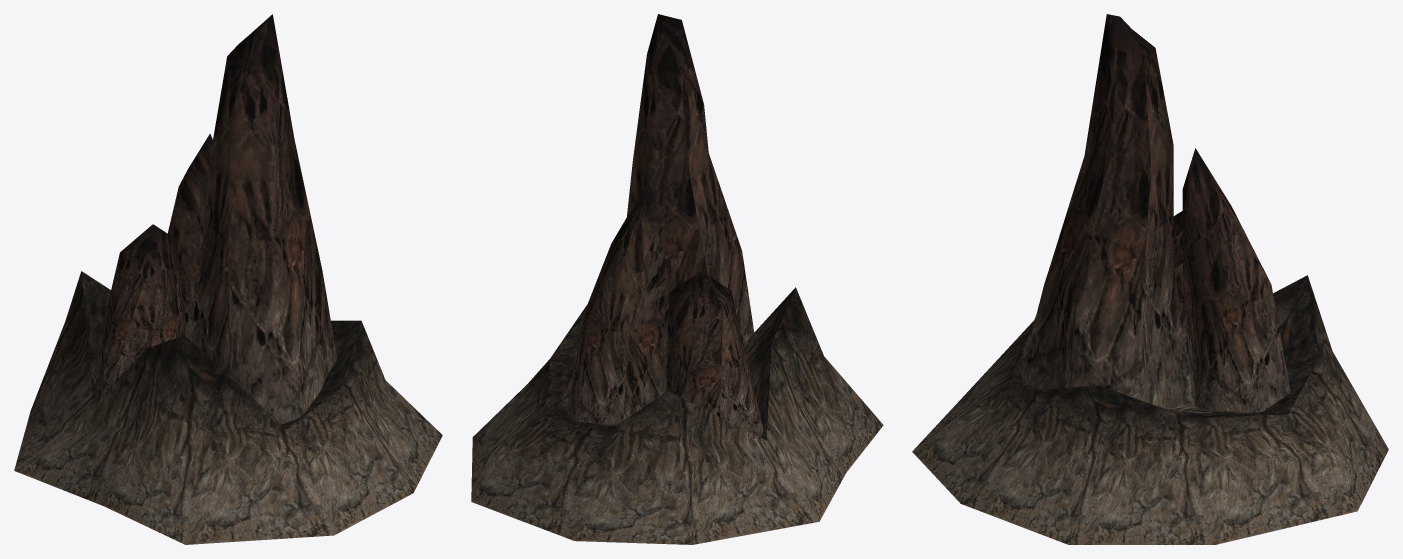
The model's file is burningsteppesboulders01.glb.
The picture shows the model from 3 angles, left to right: view 1: azimuth 30°, elevation 25°; view 2: azimuth 150°, elevation 25°; view 3: azimuth 270°, elevation 25°; orthographic projection. The views are drawn at different scales.
Size of the model in its own units: 8.13 by 9.52 by 9.04.
2 materials, 2 textured.
